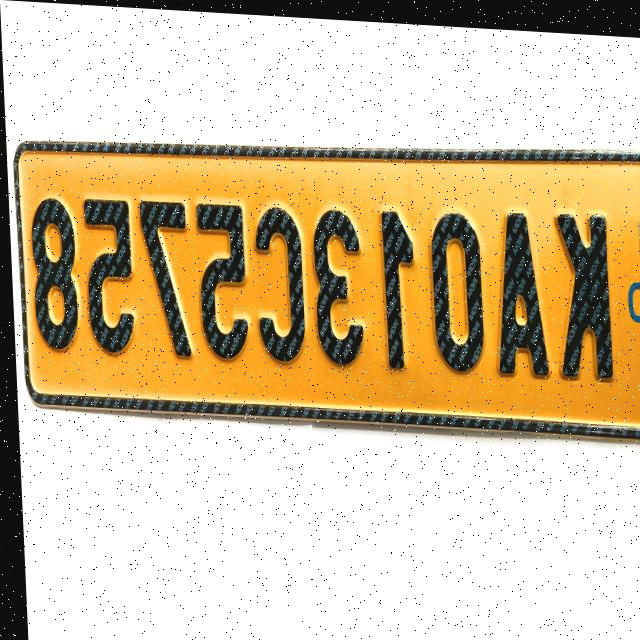plate: (5, 117, 640, 459)
